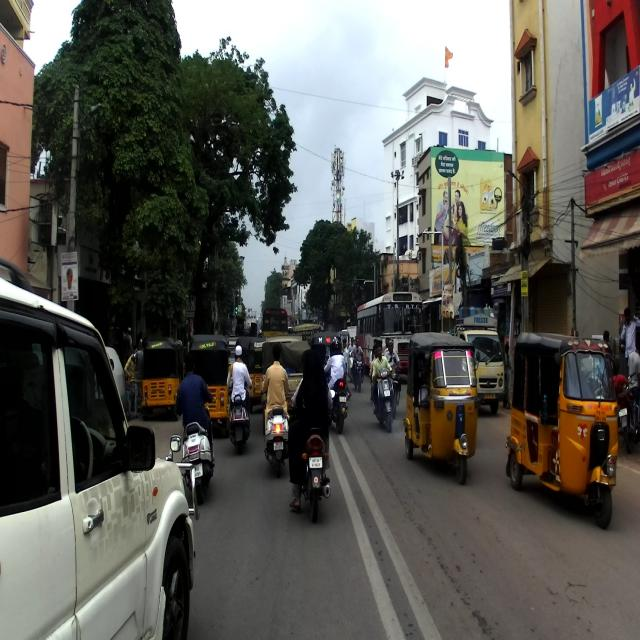autorickshaw: (505, 330, 621, 529), (403, 332, 480, 485)
car: (0, 256, 200, 639)
motorcycle: (291, 401, 332, 525)
scooter: (174, 388, 216, 502), (259, 382, 290, 479), (227, 377, 253, 456)
